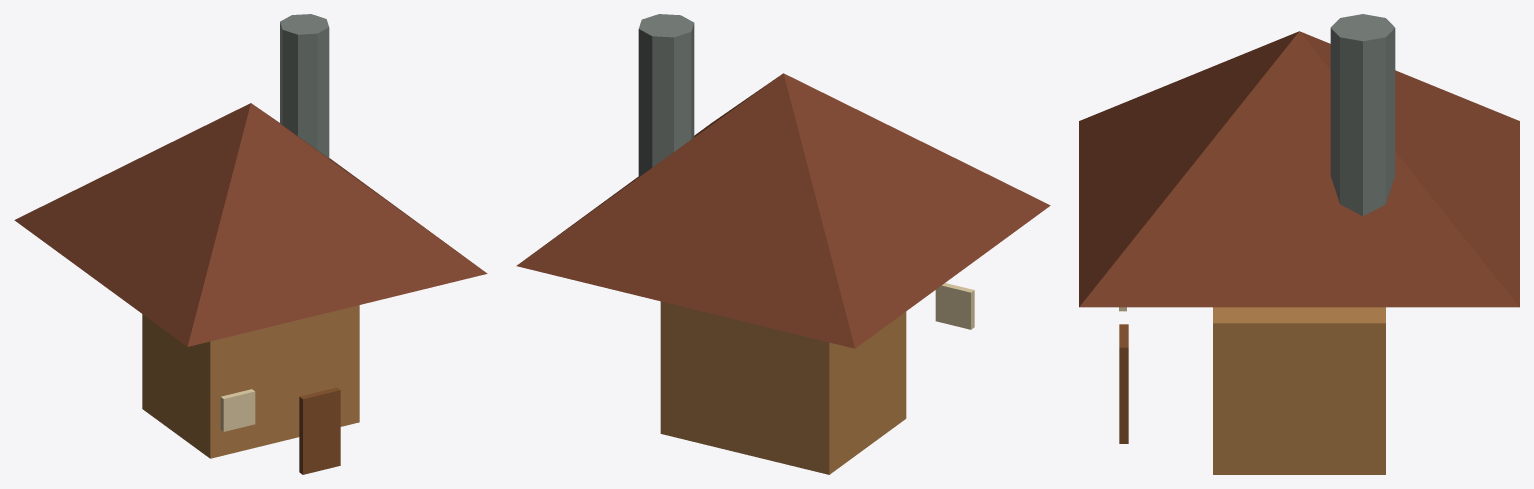
File: SM_SmallCabin_A.glb
The picture shows the model from 3 angles, left to right: view 1: azimuth 30°, elevation 25°; view 2: azimuth 150°, elevation 25°; view 3: azimuth 270°, elevation 25°; orthographic projection. The views are drawn at different scales.
Parts seen in each view (by area): view 1: SM_SmallCabin_A; view 2: SM_SmallCabin_A; view 3: SM_SmallCabin_A.
Boxes of the visible parts, x1=… form: SM_SmallCabin_A: x1=14, y1=14, x2=487, y2=474; SM_SmallCabin_A: x1=516, y1=14, x2=1050, y2=474; SM_SmallCabin_A: x1=1079, y1=14, x2=1519, y2=474.
Size of the model in its own units: 3.82 by 4.33 by 3.82.
